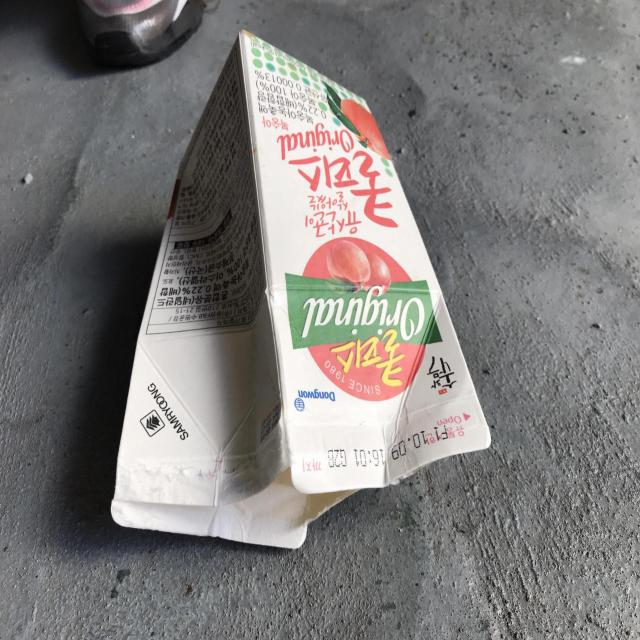paperpack: (111, 30, 491, 548)
